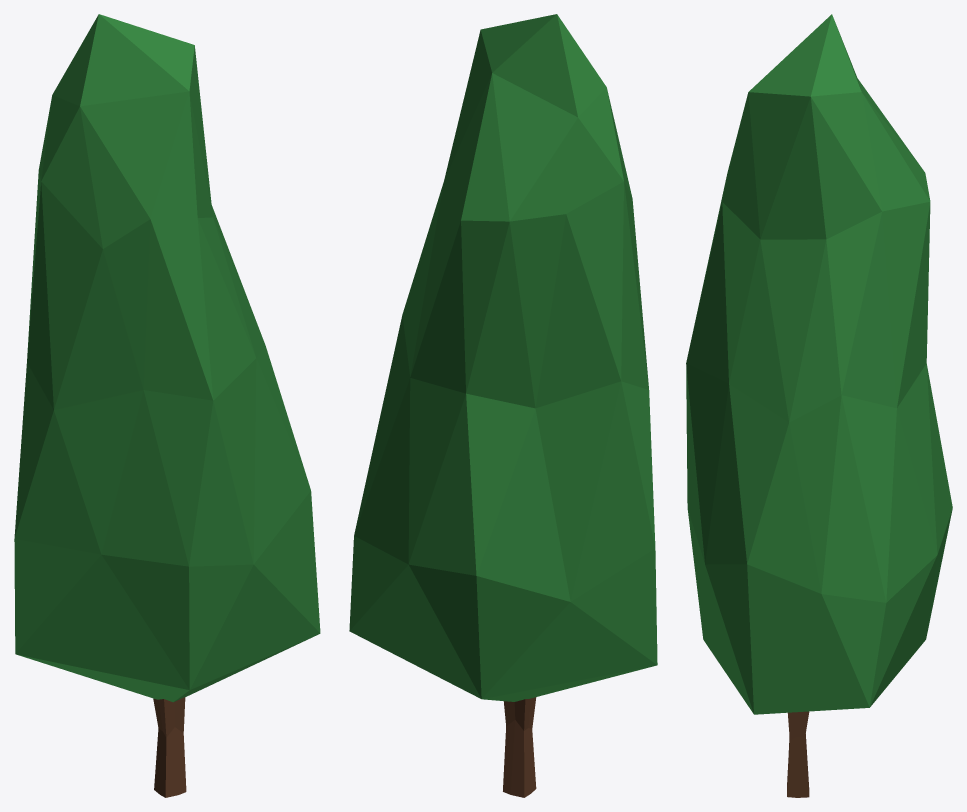
File: Tree_4_Green.fbx
The picture shows the model from 3 angles, left to right: view 1: azimuth 30°, elevation 25°; view 2: azimuth 150°, elevation 25°; view 3: azimuth 270°, elevation 25°; orthographic projection. The views are drawn at different scales.
Parts seen in each view (by area): view 1: Tree_4_Green_Part_1, Tree_4_Green_Part_2; view 2: Tree_4_Green_Part_1, Tree_4_Green_Part_2; view 3: Tree_4_Green_Part_1, Tree_4_Green_Part_2.
Part boxes in pixels (bbox=[...]): Tree_4_Green_Part_1: bbox=[14, 14, 320, 702]; Tree_4_Green_Part_2: bbox=[153, 697, 186, 797]; Tree_4_Green_Part_1: bbox=[349, 14, 657, 701]; Tree_4_Green_Part_2: bbox=[503, 697, 536, 797]; Tree_4_Green_Part_1: bbox=[686, 14, 952, 714]; Tree_4_Green_Part_2: bbox=[787, 711, 809, 797].
Bounding box in the file's own units: 295 × 795 × 254.
